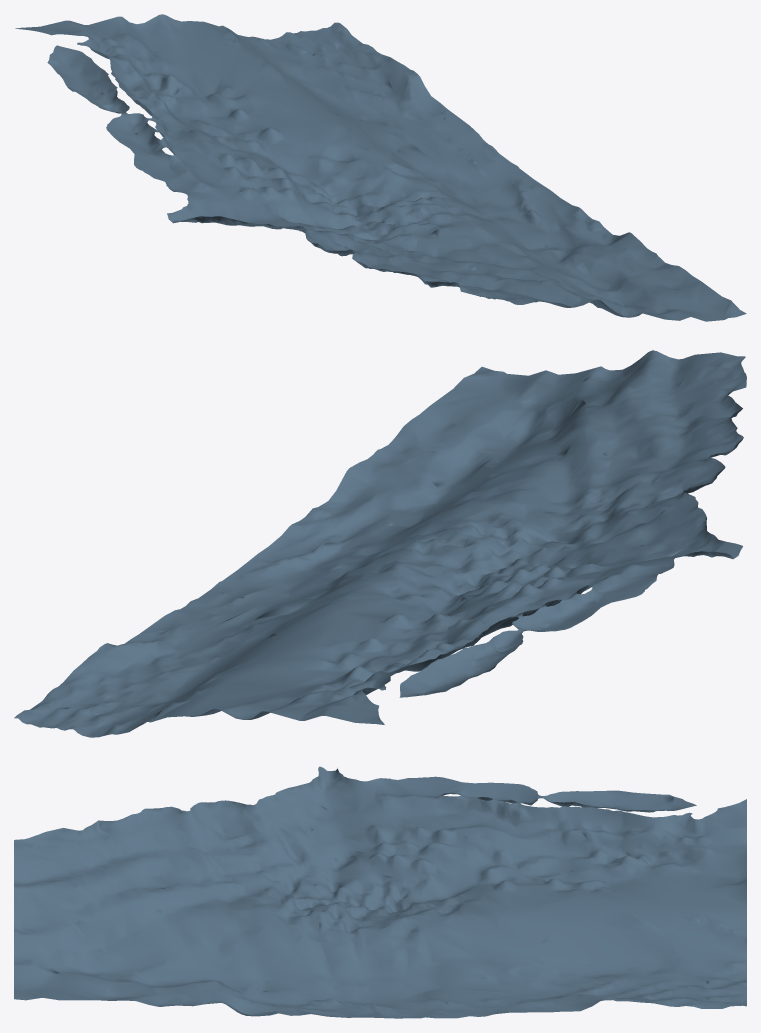
Rendered from underwater.FBX.
The picture shows the model from 3 angles, top to bottom: view 1: azimuth 30°, elevation 25°; view 2: azimuth 150°, elevation 25°; view 3: azimuth 270°, elevation 25°; orthographic projection. The views are drawn at different scales.
Parts seen in each view (by area): view 1: underwater; view 2: underwater; view 3: underwater.
Part boxes in pixels (<box>): underwater: <box>15,14,746,321</box>; underwater: <box>14,350,746,737</box>; underwater: <box>14,766,746,1018</box>.
Bounding box in the file's own units: 606 × 131 × 1076.
